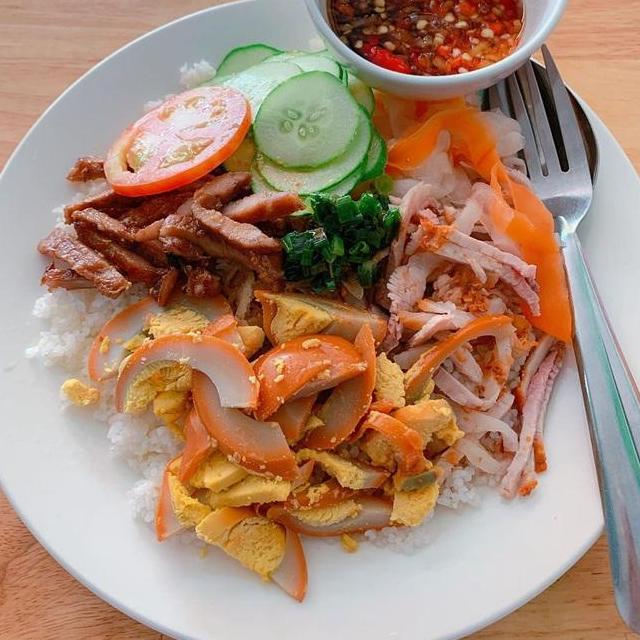com: (87, 375, 191, 533), (357, 456, 505, 561), (16, 278, 158, 382)
dua chua: (442, 157, 577, 346), (359, 80, 535, 206)
suon: (369, 175, 567, 509), (34, 153, 312, 310)
trung: (85, 285, 467, 606)
